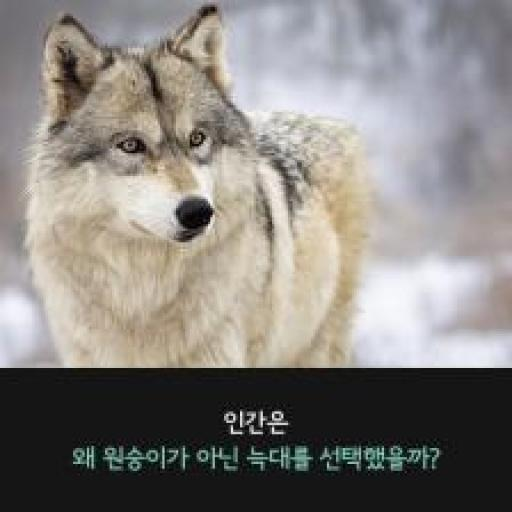wolf: (18, 0, 379, 379)
